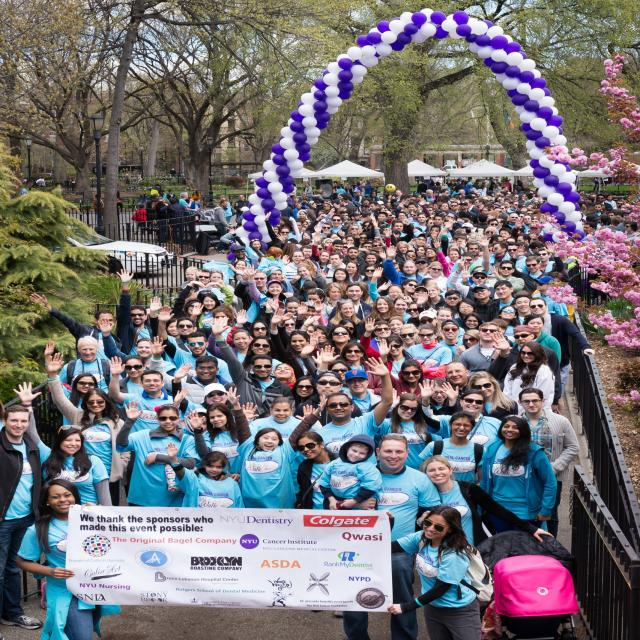body: (14, 164, 640, 361), (321, 432, 445, 640), (12, 381, 117, 612), (15, 478, 124, 640), (386, 505, 494, 640), (415, 453, 556, 548), (47, 352, 132, 506), (225, 385, 328, 509), (108, 356, 186, 506), (476, 415, 559, 535), (0, 404, 44, 630), (517, 386, 580, 541), (115, 400, 203, 508), (207, 316, 297, 421), (521, 297, 596, 417), (314, 356, 395, 467), (241, 396, 323, 494), (28, 293, 124, 362), (148, 335, 238, 406), (417, 378, 504, 451), (157, 305, 234, 384), (374, 387, 444, 471), (500, 324, 563, 416), (165, 441, 246, 508), (314, 433, 384, 510), (418, 411, 488, 486), (443, 331, 512, 406), (183, 401, 245, 484), (97, 318, 178, 380), (43, 340, 100, 426), (359, 317, 426, 381), (440, 370, 519, 422), (503, 341, 556, 417), (293, 431, 342, 512), (171, 363, 236, 424), (58, 335, 124, 394), (114, 268, 156, 356), (270, 307, 318, 381), (148, 296, 198, 365), (375, 338, 426, 400), (406, 322, 453, 384), (456, 320, 500, 384), (339, 339, 384, 396), (512, 314, 563, 364), (205, 317, 252, 364), (360, 295, 406, 341), (240, 334, 284, 378), (328, 282, 374, 322), (418, 377, 452, 430), (530, 275, 570, 320), (326, 298, 365, 340), (158, 198, 190, 246), (485, 279, 517, 322), (212, 200, 234, 252), (444, 362, 472, 398), (471, 284, 496, 322), (272, 362, 296, 391)
